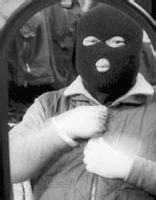face_mask: (78, 21, 135, 90)
